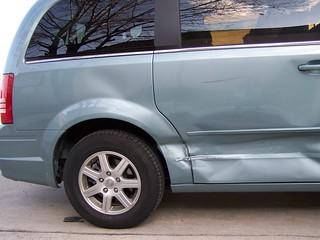doorouter-dent: (181, 58, 319, 188)
